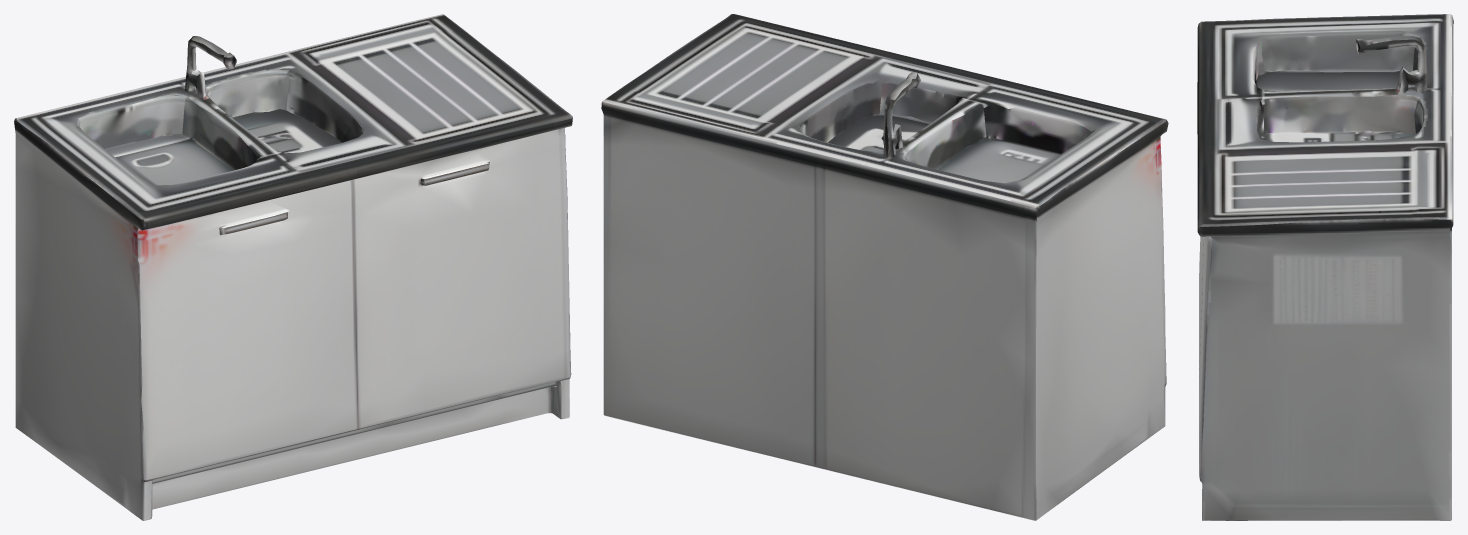
File: Evier2_3D_textured.glb
3 renders of one model, left to right at view 1: azimuth 30°, elevation 25°; view 2: azimuth 150°, elevation 25°; view 3: azimuth 270°, elevation 25°, orthographic. The views are drawn at different scales.
Visible parts, largest first — view 1: temp_mesh.ply; view 2: temp_mesh.ply; view 3: temp_mesh.ply.
Boxes of the visible parts, x1,y1,x2,y2 form: temp_mesh.ply: (14, 14, 572, 520); temp_mesh.ply: (601, 14, 1168, 520); temp_mesh.ply: (1197, 14, 1453, 520).
Bounding box in the file's own units: 1.97 × 1.62 × 1.04.
1 material, 1 textured.
